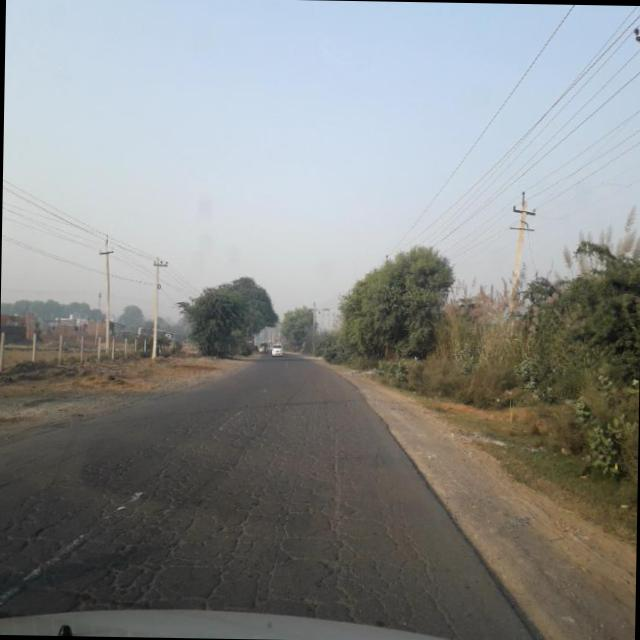crack: (0, 388, 434, 614)
